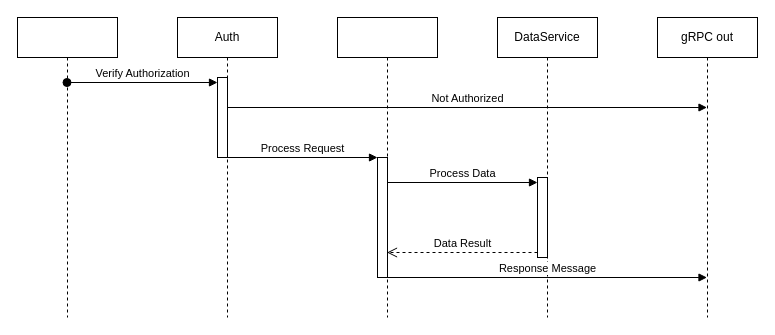
Some shapes in this 775 by 335 pixel diagram are drawn without their labels. The shapes that lost their labels are listed below. From the top down, each one's box as (x1, y1, x2, y2) in pixels, then its label:
(16, 16, 118, 318): gRPC in
(336, 16, 438, 318): ProcessFunction
